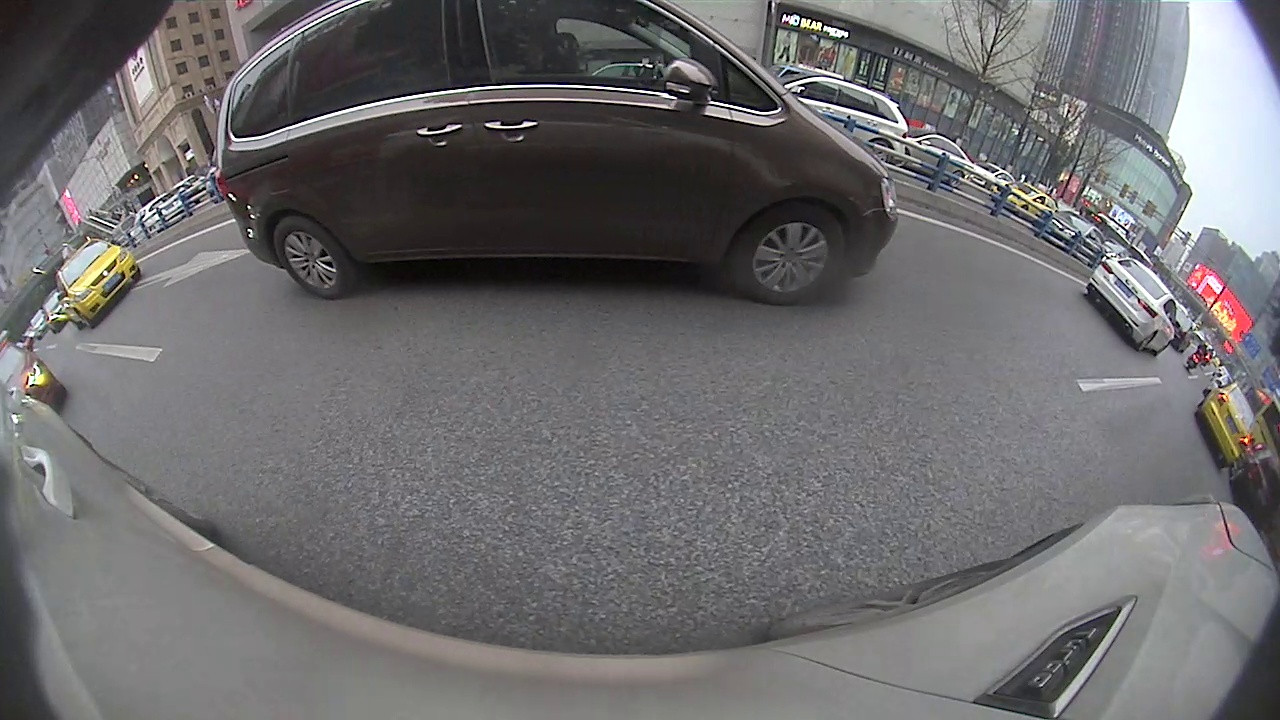car: (210, 1, 901, 306), (780, 74, 912, 169), (1082, 254, 1180, 359), (53, 235, 143, 331), (1192, 380, 1258, 471), (1030, 207, 1108, 269)
front: (730, 203, 847, 306)
rear: (270, 217, 351, 302)
